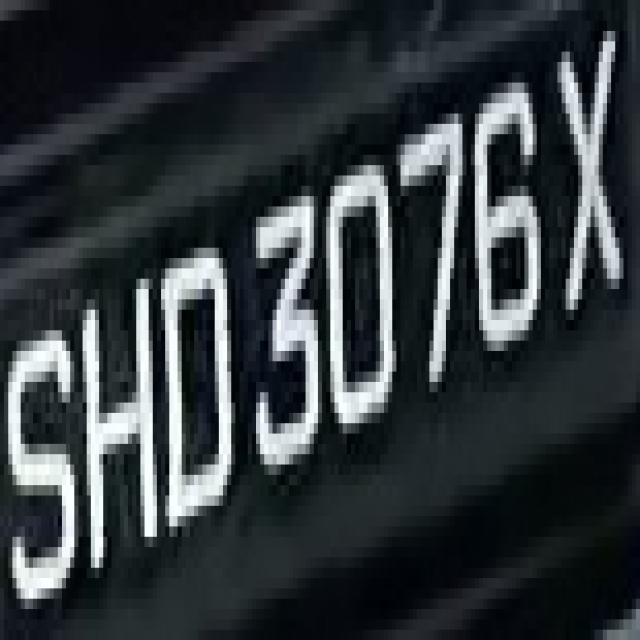0: (326, 134, 396, 454)
3: (260, 186, 326, 526)
6: (458, 93, 541, 382)
7: (380, 83, 479, 423)
D: (149, 227, 235, 578)
H: (70, 258, 165, 599)
S: (0, 4, 1, 10)
X: (549, 0, 631, 330)
